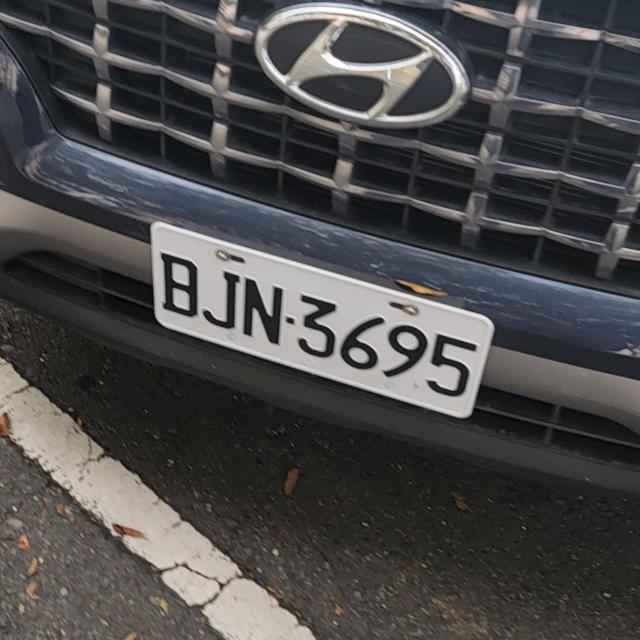W: (142, 226, 506, 419)
